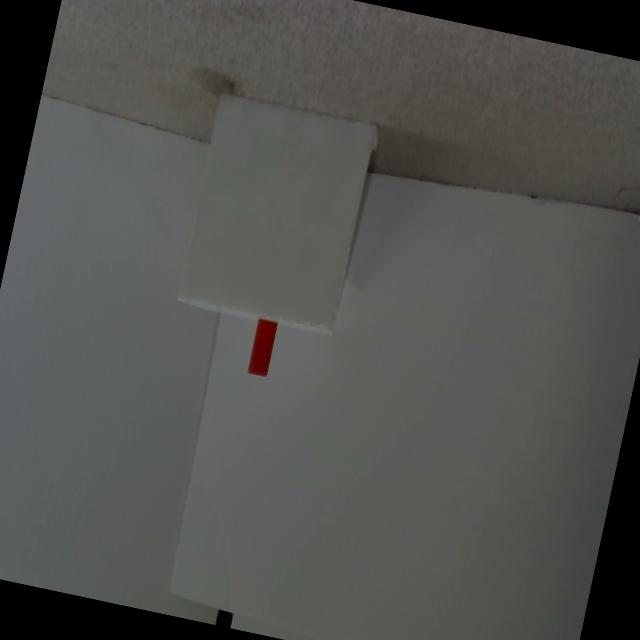red_cylinder: (246, 318, 278, 377)
